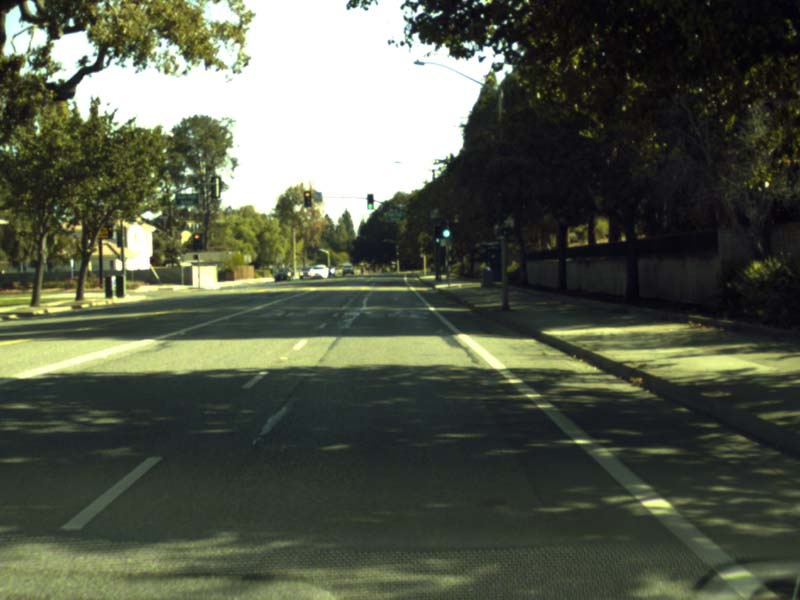Green: (367, 194, 372, 209), (435, 227, 440, 242), (443, 230, 448, 235)
Red: (304, 191, 310, 206), (193, 234, 198, 249)
